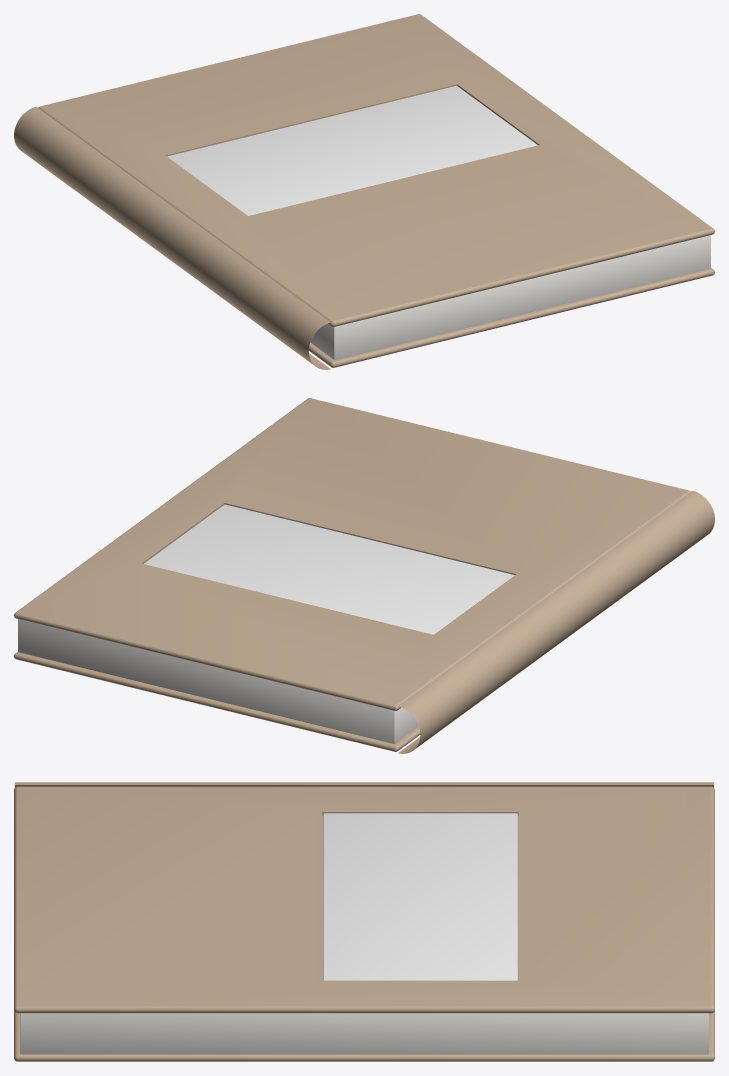
File: photo-panoramic--portrait.glb
3 views of the same model, one above another, from view 1: azimuth 30°, elevation 25°; view 2: azimuth 150°, elevation 25°; view 3: azimuth 270°, elevation 25° (orthographic). The views are drawn at different scales.
Parts seen in each view (by area): view 1: CoverFront, Photo, Spine, Pages, CoverBack; view 2: CoverFront, Photo, Spine, Pages, CoverBack; view 3: CoverFront, Photo, Pages, CoverBack, Spine.
Boxes of the visible parts, left/top/right/bottom form: CoverFront: left=38, top=14, right=714, bottom=326; Photo: left=167, top=85, right=537, bottom=215; Spine: left=14, top=106, right=330, bottom=369; Pages: left=310, top=235, right=710, bottom=359; CoverBack: left=308, top=268, right=714, bottom=367; CoverFront: left=14, top=398, right=690, bottom=710; Photo: left=144, top=504, right=514, bottom=634; Spine: left=398, top=490, right=714, bottom=753; Pages: left=18, top=619, right=418, bottom=743; CoverBack: left=14, top=652, right=420, bottom=751; CoverFront: left=14, top=786, right=714, bottom=1013; Photo: left=323, top=813, right=517, bottom=980; Pages: left=20, top=1013, right=708, bottom=1054; CoverBack: left=14, top=1011, right=714, bottom=1061; Spine: left=15, top=782, right=713, bottom=787.
Size of the model in its own units: 0.3179 by 0.0352 by 0.4.
